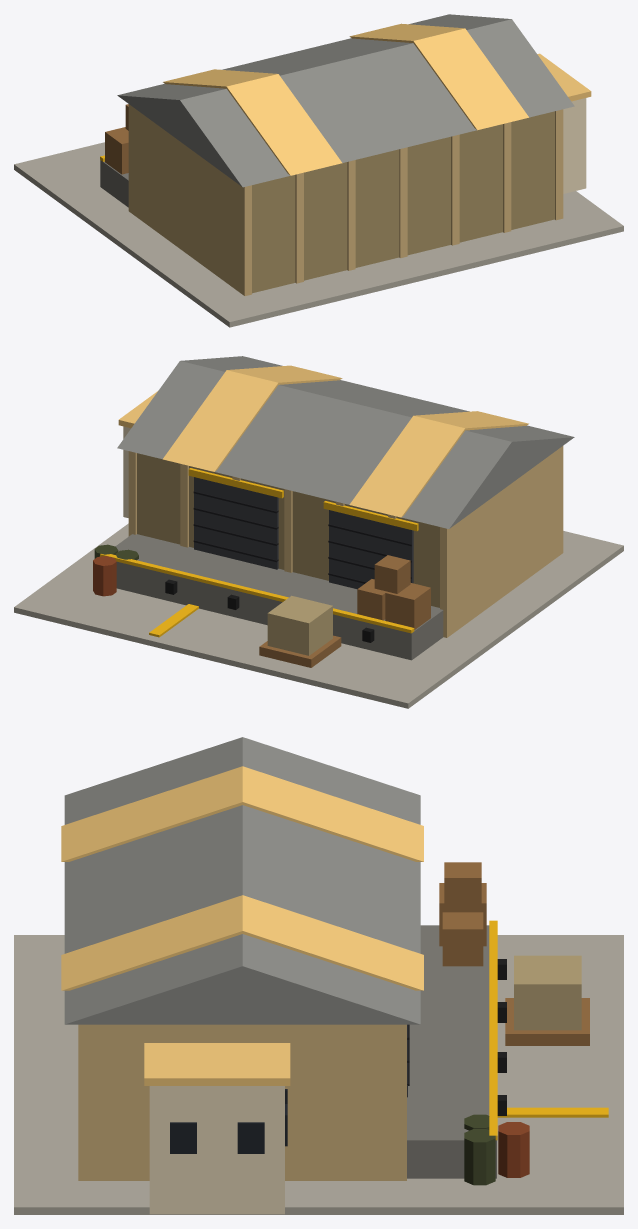
File: depot.glb
3 views of the same model, one above another, from view 1: azimuth 30°, elevation 25°; view 2: azimuth 150°, elevation 25°; view 3: azimuth 270°, elevation 25° (orthographic). The views are drawn at different scales.
Visible parts, largest first — view 1: depot; view 2: depot; view 3: depot.
Part boxes in pixels (x1,y1,x2,y2): depot: (14, 14, 623, 327); depot: (14, 356, 623, 708); depot: (14, 737, 623, 1214).
Size of the model in its own units: 3.93 by 1.5 by 3.6.
